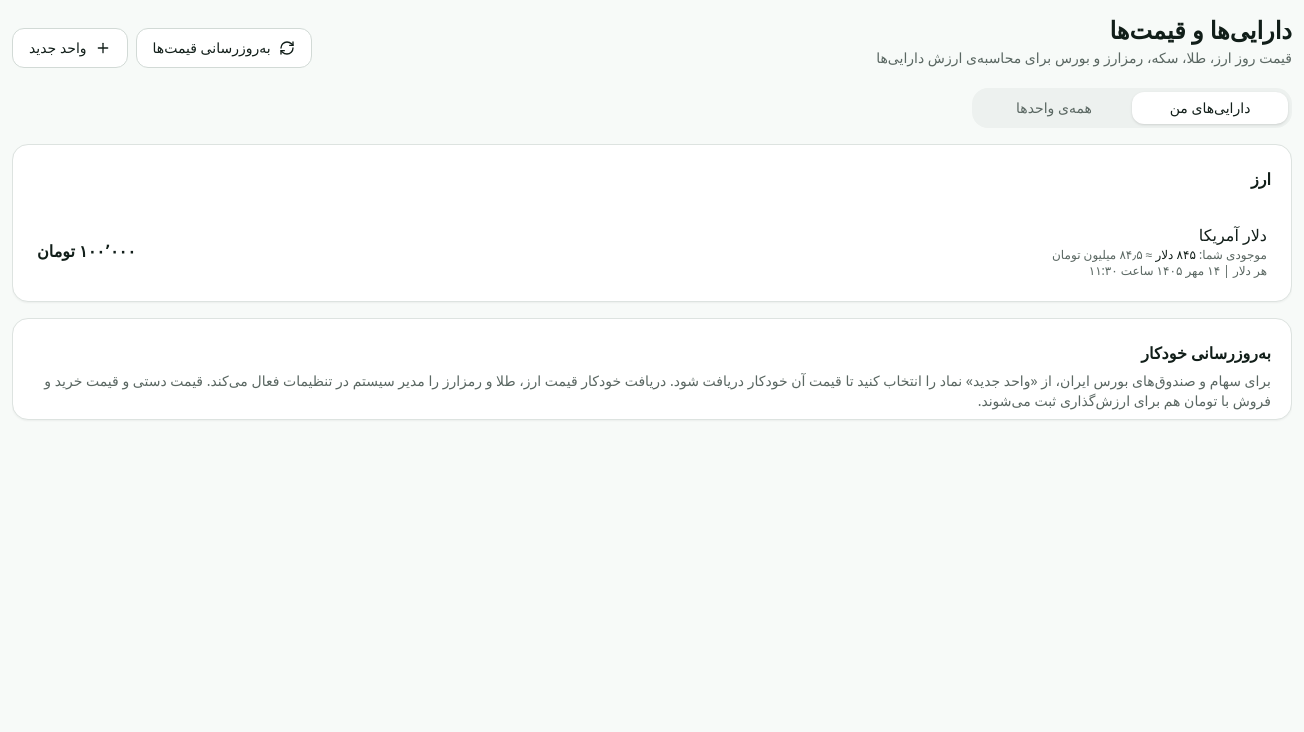
AssetsPage › shows the units the user holds, with their quantity and value, and can switch to all units
Check: the text "دلار آمریکا" is shown, box left=1199, top=224, right=1267, bottom=246
Check: the text "یورو" is not shown
Step 1. Click the radio button labelled "همه‌ی واحدها" → (1054, 108), box left=976, top=92, right=1132, bottom=124
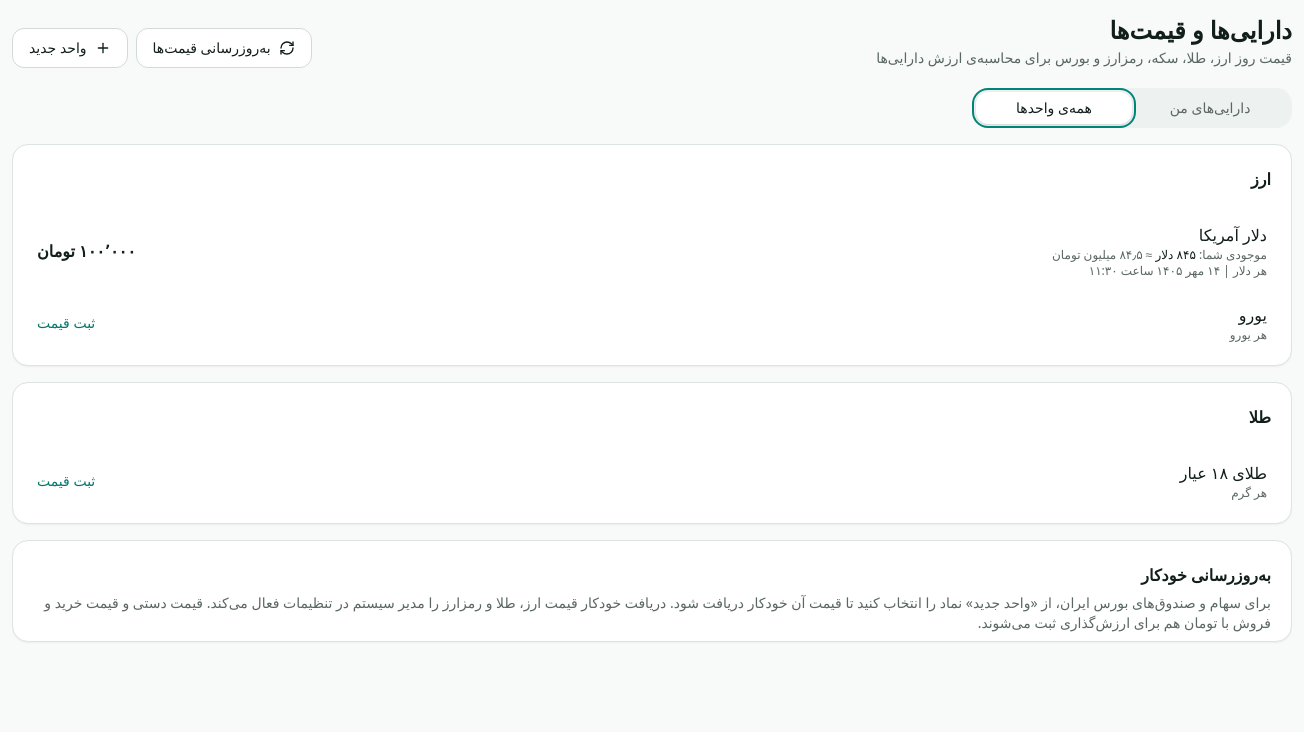
Check: the text "یورو" is shown, box left=1239, top=304, right=1267, bottom=326
Check: the text "طلای ۱۸ عیار" is shown, box left=1180, top=461, right=1267, bottom=485
